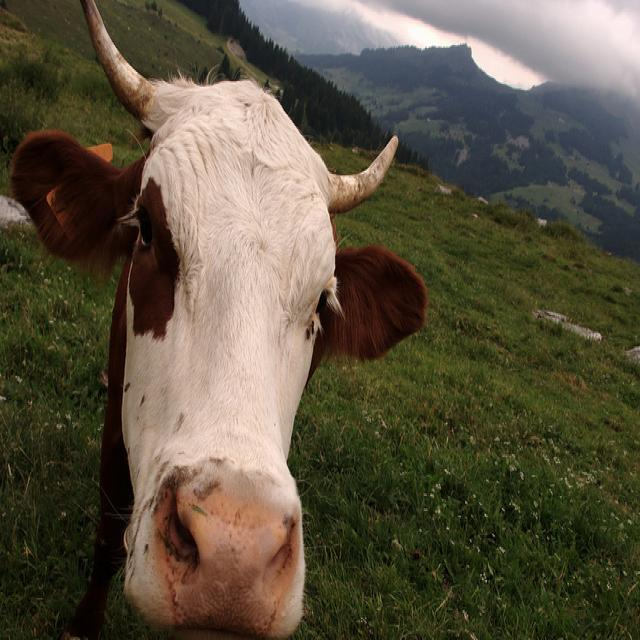cow: (6, 0, 425, 630)
